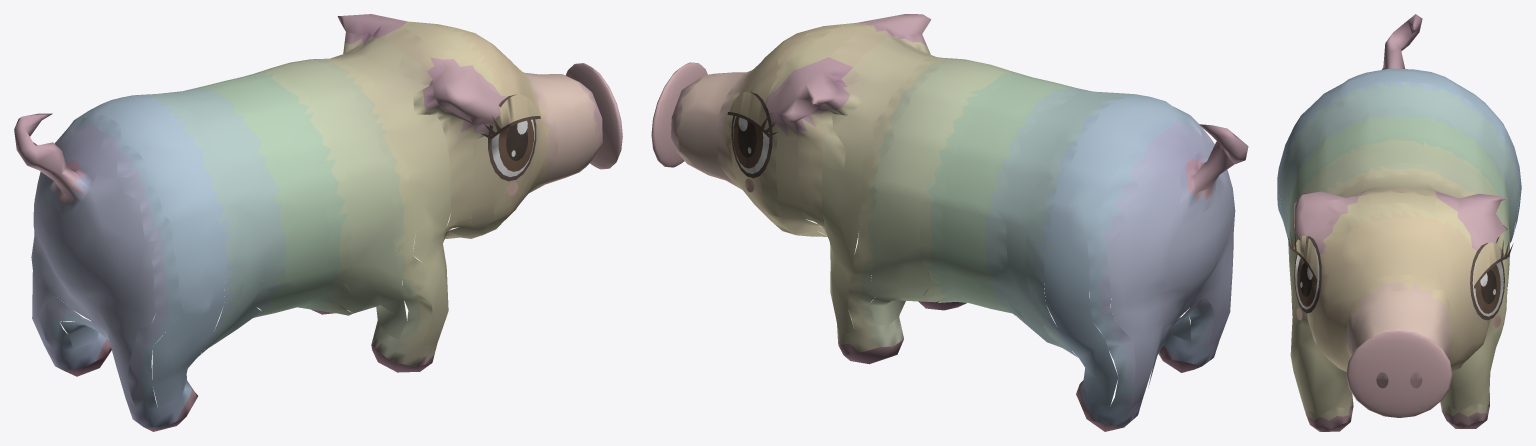
The model's file is rainbow_pig.glb.
The picture shows the model from 3 angles, left to right: view 1: azimuth 30°, elevation 25°; view 2: azimuth 150°, elevation 25°; view 3: azimuth 270°, elevation 25°; orthographic projection. The views are drawn at different scales.
Visible parts, largest first — view 1: rainbow_pig; view 2: rainbow_pig; view 3: rainbow_pig.
Part boxes in pixels (<box>): rainbow_pig: <box>14,14,622,431</box>; rainbow_pig: <box>651,14,1248,431</box>; rainbow_pig: <box>1277,14,1521,431</box>.
Size of the model in its own units: 0.8279 by 0.41 by 0.3385.
